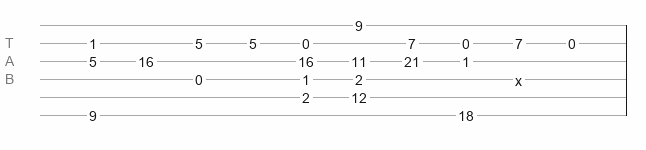0: (195, 72, 203, 82), (302, 36, 310, 46), (462, 36, 470, 46), (568, 36, 576, 46)
1: (89, 36, 97, 46), (302, 72, 310, 82), (462, 54, 470, 64)
11: (351, 54, 367, 64)
12: (351, 90, 367, 100)
16: (138, 54, 154, 64), (298, 54, 314, 64)
18: (458, 108, 474, 118)
2: (302, 90, 310, 100), (355, 72, 363, 82)
21: (404, 54, 420, 64)
5: (89, 54, 97, 64), (195, 36, 203, 46), (249, 36, 257, 46)
7: (408, 36, 416, 46), (515, 36, 523, 46)
9: (89, 108, 97, 118), (355, 18, 363, 28)
x: (515, 73, 522, 81)
